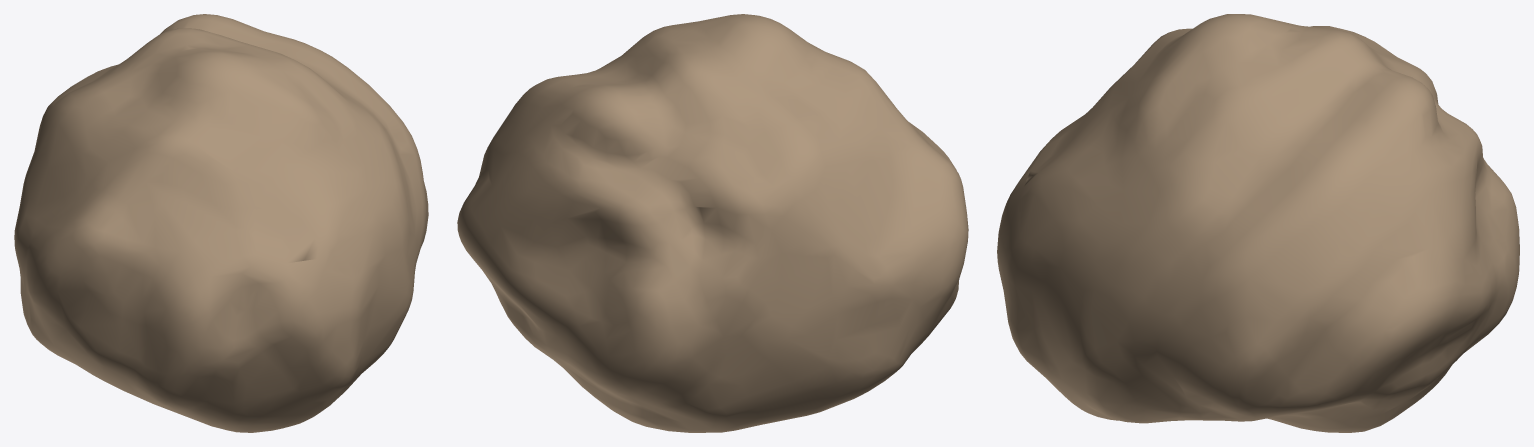
The model's file is ciasto.gltf.
The picture shows the model from 3 angles, left to right: view 1: azimuth 30°, elevation 25°; view 2: azimuth 150°, elevation 25°; view 3: azimuth 270°, elevation 25°; orthographic projection. The views are drawn at different scales.
Parts seen in each view (by area): view 1: Sphere; view 2: Sphere; view 3: Sphere.
Part boxes in pixels (x1,y1,x2,y2): Sphere: (14,14,428,432); Sphere: (457,14,968,432); Sphere: (997,14,1519,432).
Bounding box in the file's own units: 1.3 × 1.04 × 1.27.
Materials: 1 (1 with a texture image).
